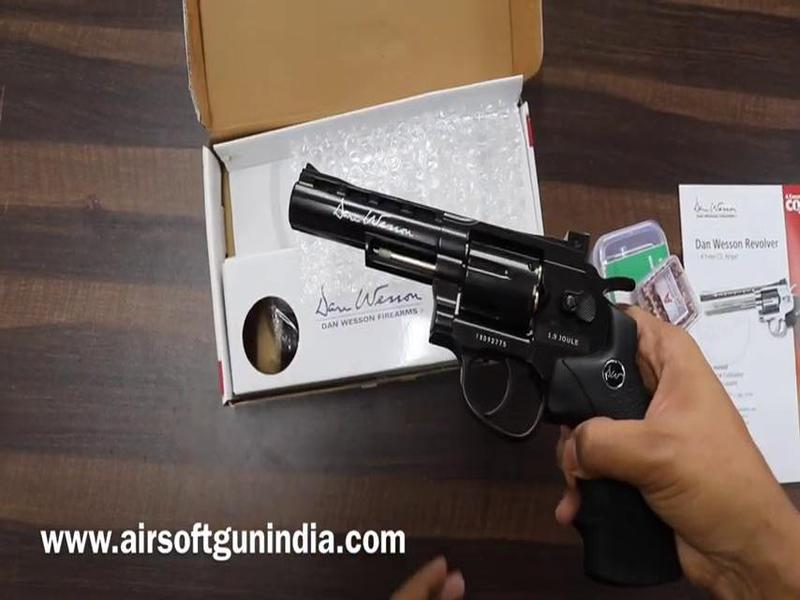Revolver: (268, 154, 717, 594)
